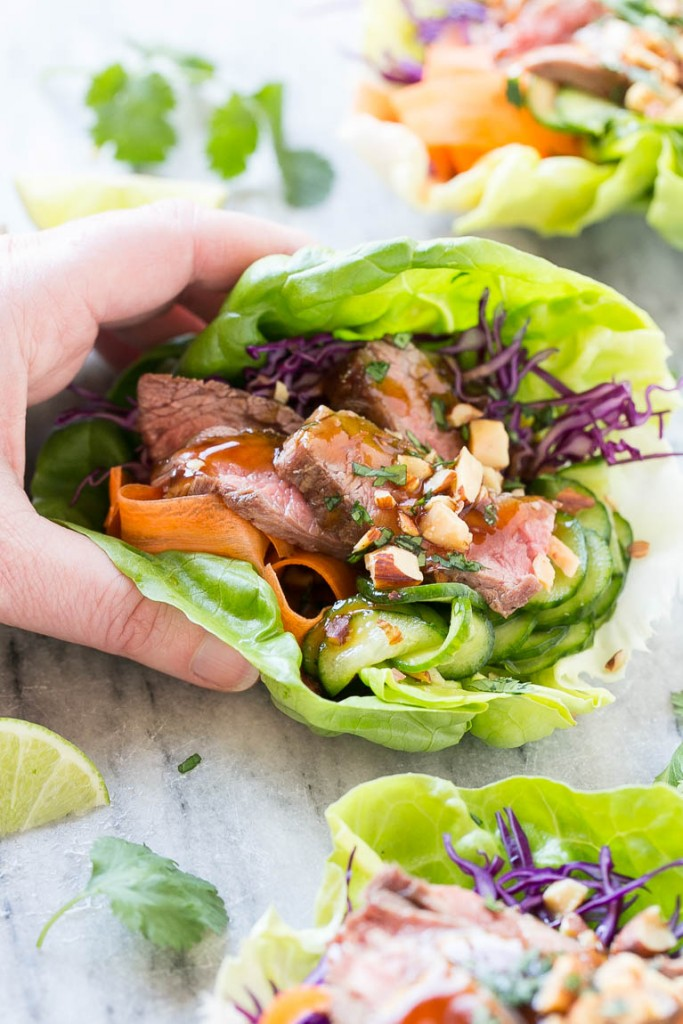chopped lettuce: (226, 233, 670, 381), (167, 632, 616, 760), (364, 775, 683, 882)
